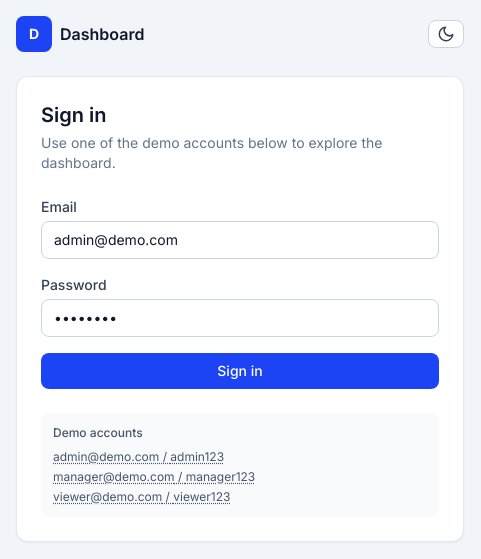
Test: LoginPage › fills the form when a demo account is clicked
Click the button "viewer@demo.com / viewer123" at (142, 497), box [53, 489, 230, 505]
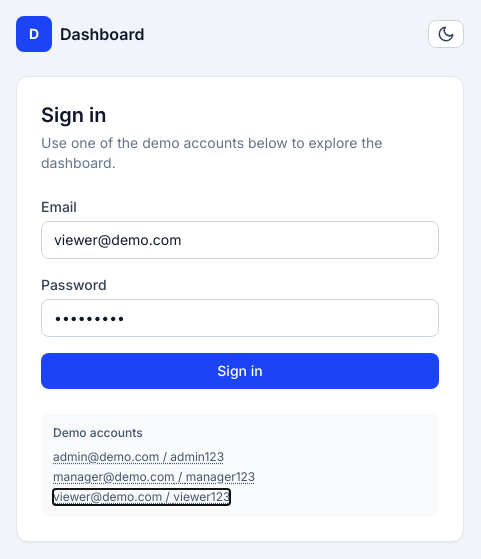
Expected: the password field labelled "Password" holds "viewer123", [41, 299, 439, 337]
Now the field labelled "Email" holds "viewer@demo.com", box [41, 221, 439, 259]
